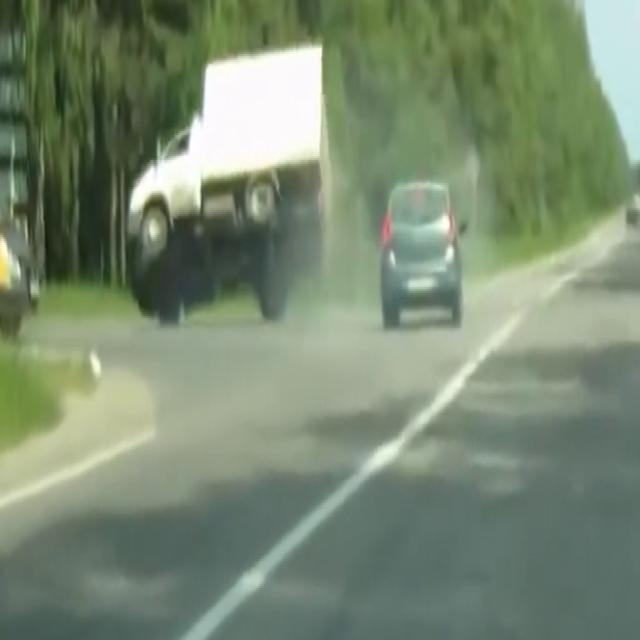accident: (111, 54, 341, 360)
